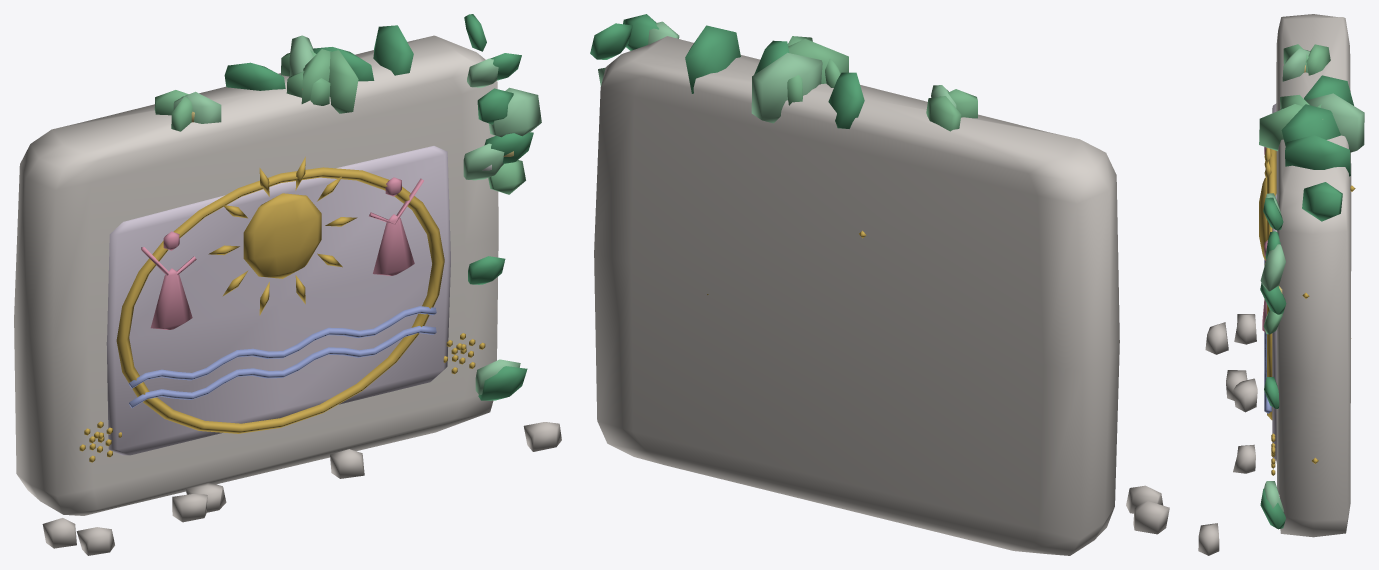
File: shrine_wall_mural.gltf
3 renders of one model, left to right at view 1: azimuth 30°, elevation 25°; view 2: azimuth 150°, elevation 25°; view 3: azimuth 270°, elevation 25°, orthographic. The views are drawn at different scales.
Visible parts, largest first — view 1: shrine_wall_mural; view 2: shrine_wall_mural; view 3: shrine_wall_mural.
Part boxes in pixels (left/top/right/bottom): shrine_wall_mural: left=14, top=14, right=561, bottom=555; shrine_wall_mural: left=590, top=14, right=1169, bottom=555; shrine_wall_mural: left=1198, top=14, right=1364, bottom=555.
Size of what is drawn, in the model's own units: 4.34 by 3.31 by 1.32.
